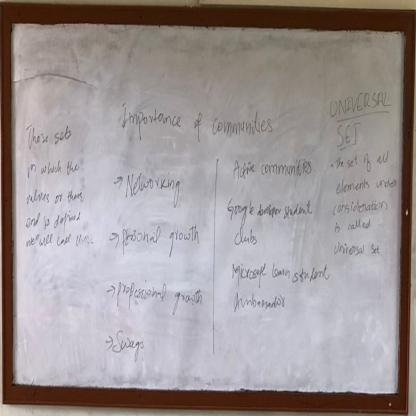Handwritten text: (119, 96, 278, 142), (115, 271, 206, 321), (118, 216, 206, 262), (225, 255, 333, 289), (224, 189, 317, 226), (229, 151, 316, 183), (124, 169, 185, 208), (230, 288, 293, 320), (327, 87, 394, 116), (25, 114, 76, 150), (22, 152, 83, 181), (24, 183, 87, 208), (113, 323, 149, 366), (24, 208, 83, 233), (330, 195, 390, 217), (332, 149, 392, 171), (332, 173, 400, 192), (330, 238, 384, 258), (329, 214, 376, 234), (335, 118, 363, 146), (232, 224, 263, 248)
Whiteboard: (8, 17, 401, 403)
